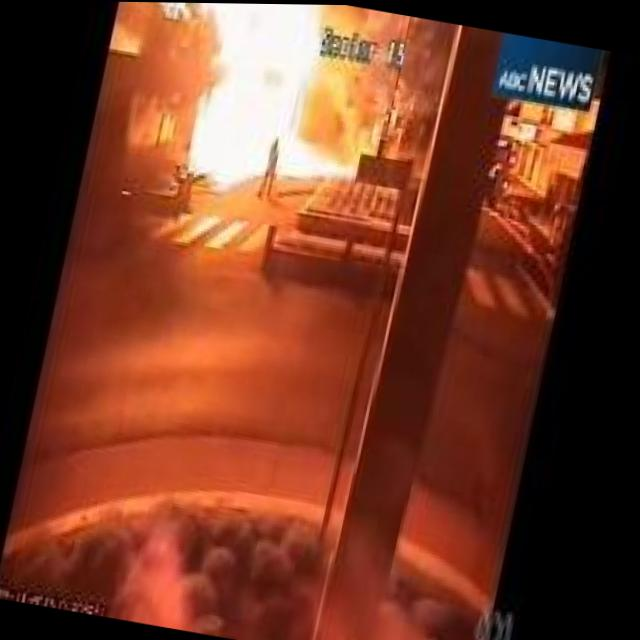fire: (126, 2, 400, 214)
